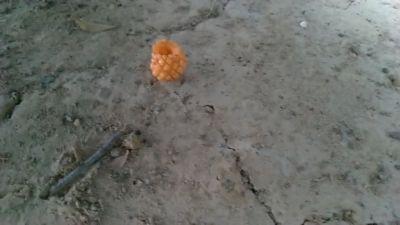eggs: (153, 40, 186, 84)
